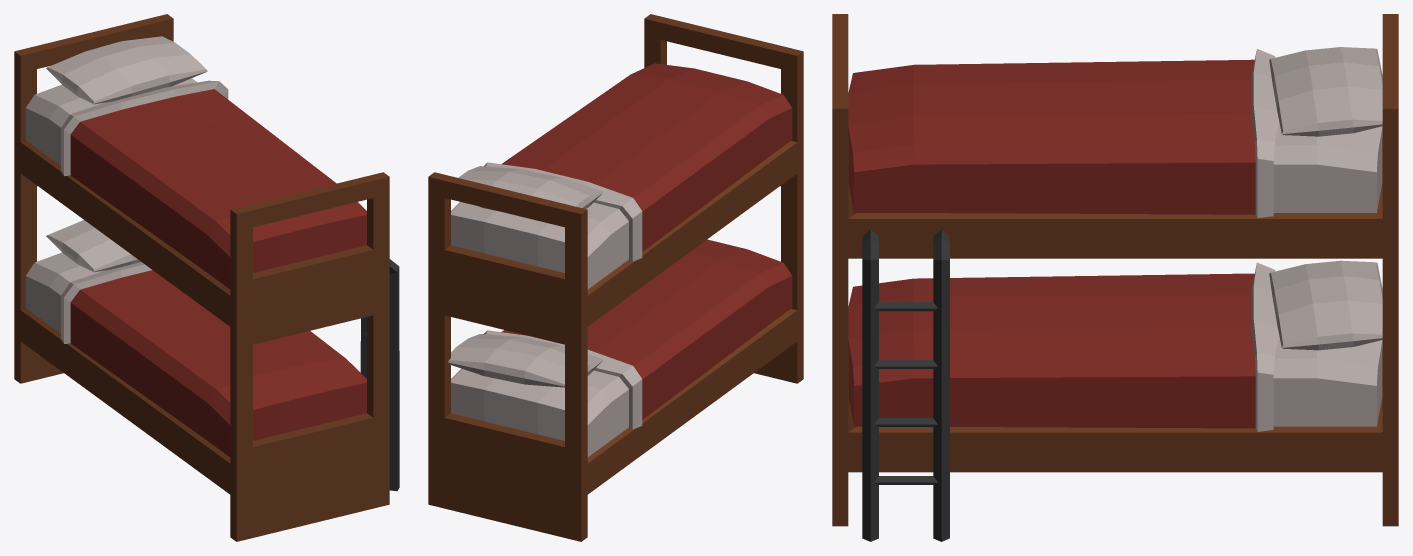
The model's file is BunkBeds.glb.
3 renders of one model, left to right at view 1: azimuth 30°, elevation 25°; view 2: azimuth 150°, elevation 25°; view 3: azimuth 270°, elevation 25°, orthographic. The views are drawn at different scales.
Parts seen in each view (by area): view 1: BunkBeds; view 2: BunkBeds; view 3: BunkBeds.
Boxes of the visible parts, <box> form: BunkBeds: <box>14,14,399,541</box>; BunkBeds: <box>428,14,803,541</box>; BunkBeds: <box>832,14,1398,541</box>.
Size of the model in its own units: 1.03 by 1.76 by 2.17.
